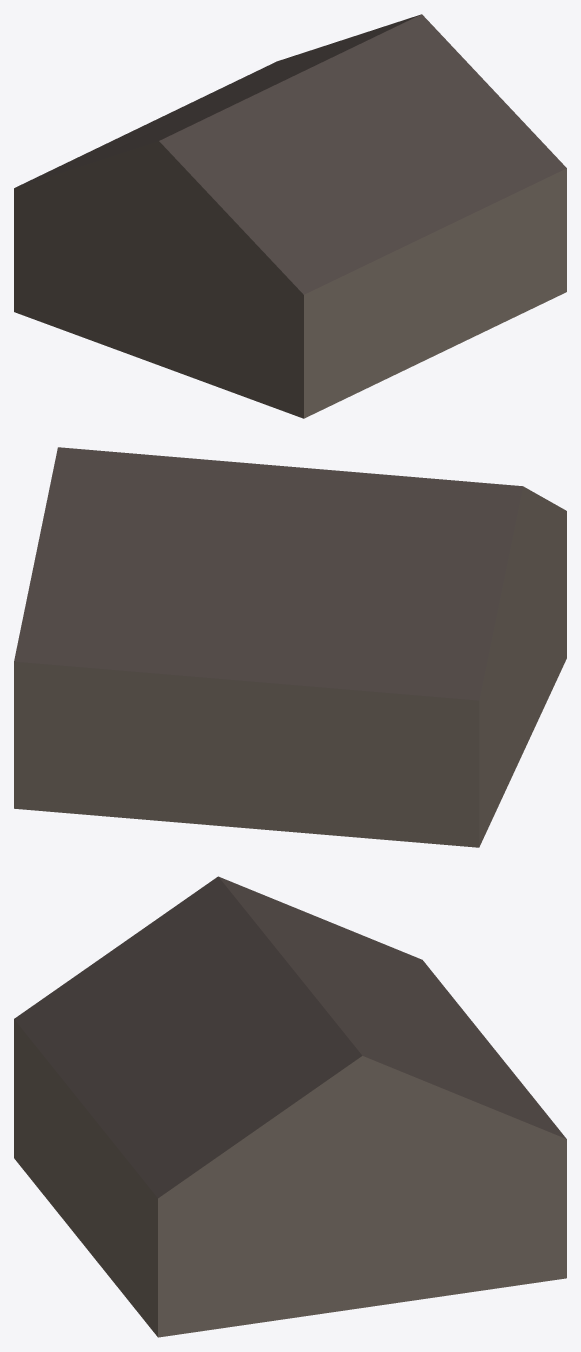
The picture shows the model from 3 angles, top to bottom: view 1: azimuth 30°, elevation 25°; view 2: azimuth 150°, elevation 25°; view 3: azimuth 270°, elevation 25°; orthographic projection. The views are drawn at different scales.
Parts seen in each view (by area): view 1: HP-w859457315; view 2: HP-w859457315; view 3: HP-w859457315.
Part boxes in pixels (left/top/right/bottom): HP-w859457315: left=14, top=14, right=566, bottom=418; HP-w859457315: left=14, top=447, right=566, bottom=847; HP-w859457315: left=14, top=876, right=566, bottom=1337.
Bounding box in the file's own units: 22.08 × 10.88 × 21.62.
